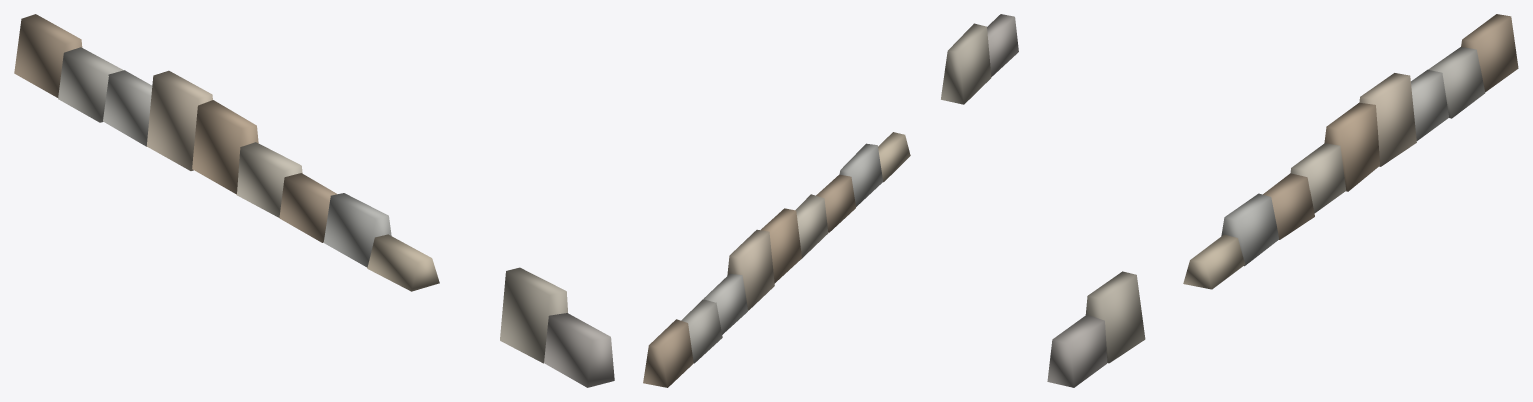
The model's file is farm_-48_-38_far.glb.
The picture shows the model from 3 angles, left to right: view 1: azimuth 30°, elevation 25°; view 2: azimuth 150°, elevation 25°; view 3: azimuth 330°, elevation 25°; orthographic projection. The views are drawn at different scales.
Parts seen in each view (by area): view 1: geometry_0; view 2: geometry_0; view 3: geometry_0.
Part boxes in pixels (x1,y1,x2,y2): geometry_0: [14, 14, 614, 387]; geometry_0: [643, 14, 1018, 387]; geometry_0: [1047, 14, 1518, 387].
Bounding box in the file's own units: 1.85 × 2.55 × 20.72.
